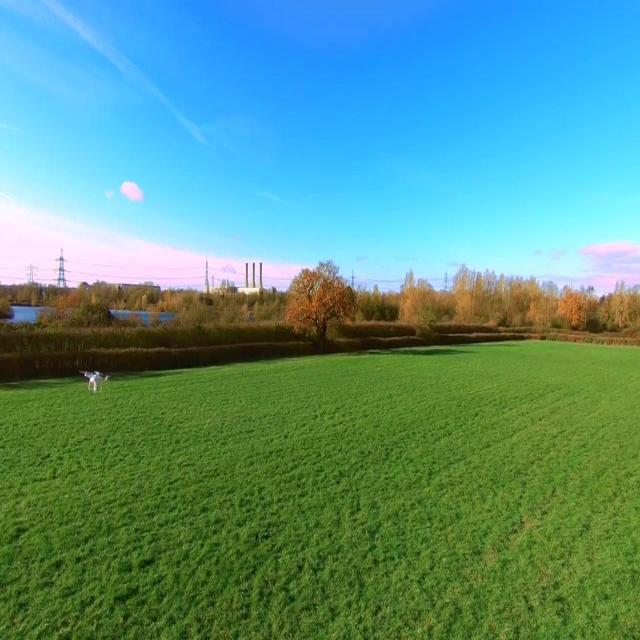drone: (81, 368, 112, 394)
